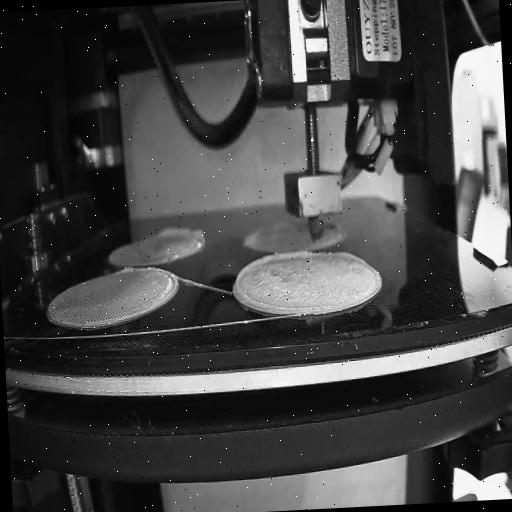over_extrusion: (232, 251, 316, 320), (332, 246, 368, 272), (157, 226, 204, 242), (323, 218, 344, 234), (118, 267, 138, 276)
